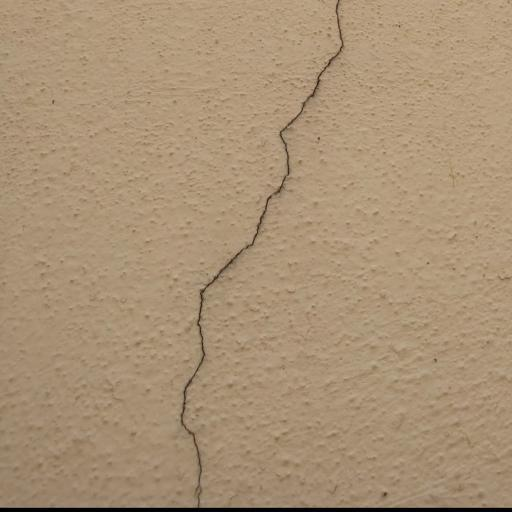minor_crack: (172, 0, 376, 512)
